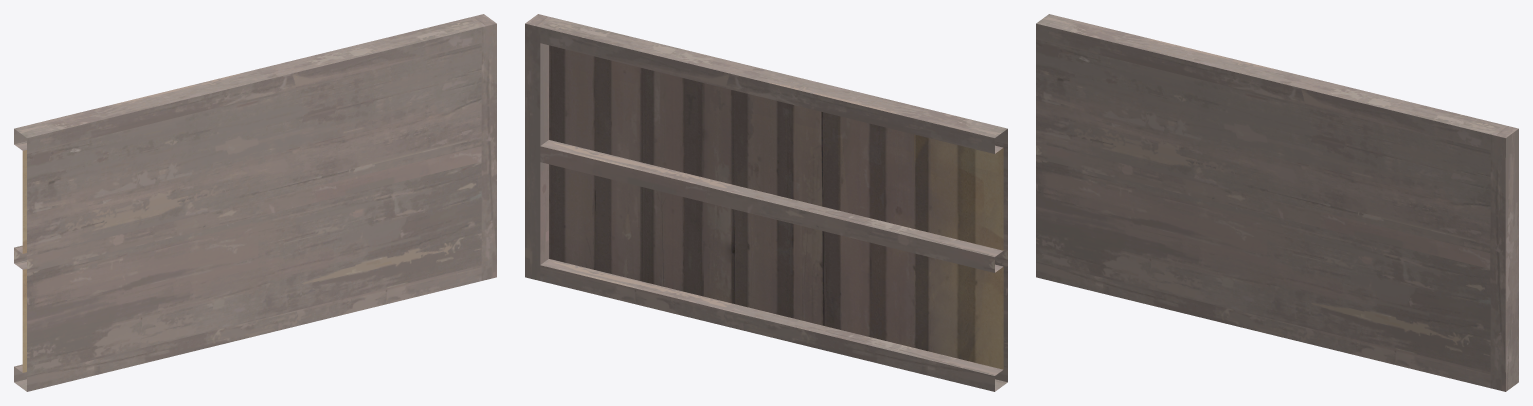
The model's file is props_mining_support_wall001a.glb.
3 renders of one model, left to right at view 1: azimuth 30°, elevation 25°; view 2: azimuth 150°, elevation 25°; view 3: azimuth 330°, elevation 25°, orthographic.
Parts seen in each view (by area): view 1: models/props_mining/support_wall001a; view 2: models/props_mining/support_wall001a; view 3: models/props_mining/support_wall001a.
Boxes of the visible parts, x1=… form: models/props_mining/support_wall001a: x1=14, y1=14, x2=496, y2=391; models/props_mining/support_wall001a: x1=525, y1=14, x2=1007, y2=391; models/props_mining/support_wall001a: x1=1036, y1=14, x2=1518, y2=391.
Size of the model in its own units: 248 by 128 by 12.08.
Materials: 2 (2 with a texture image).
